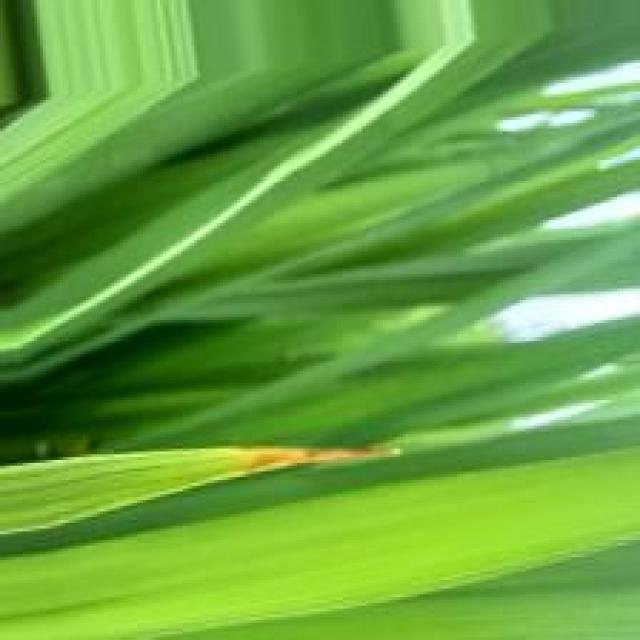HealthyLeaf: (0, 438, 640, 640), (0, 445, 237, 529)
